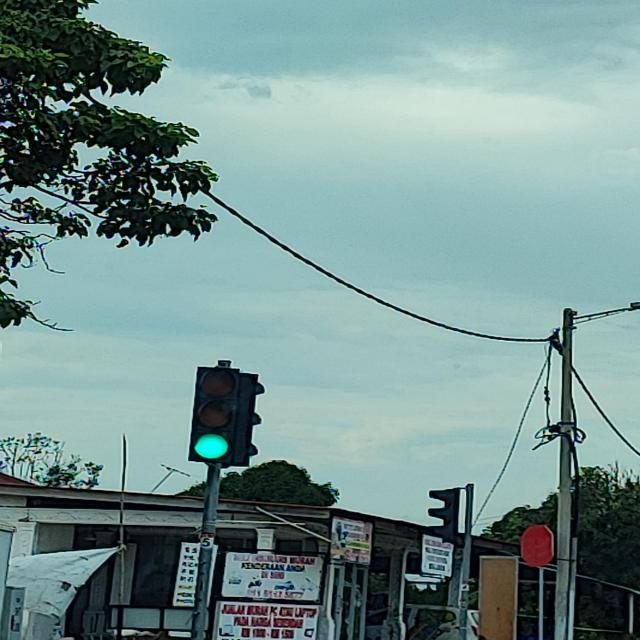green_light: (188, 370, 240, 462)
